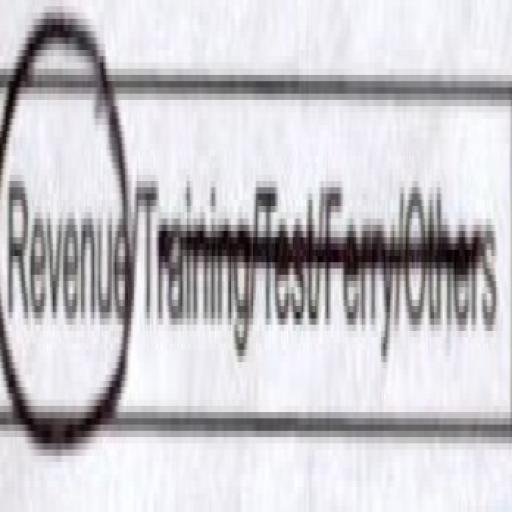check: (0, 2, 137, 452)
